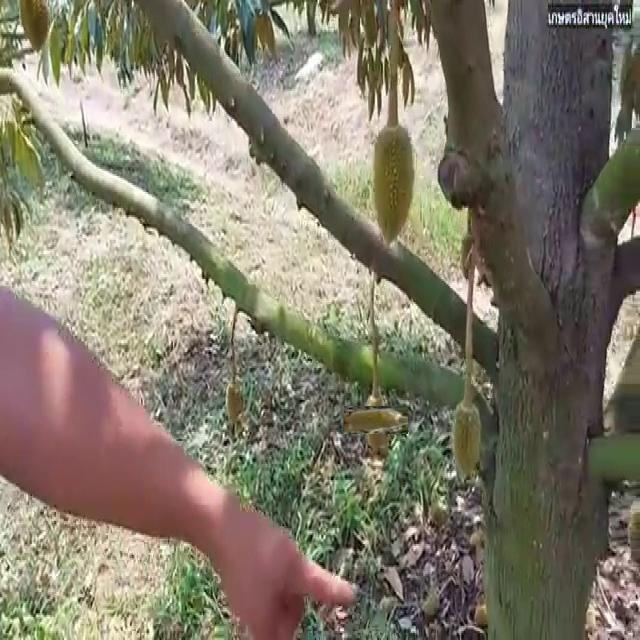durian: (371, 117, 417, 250), (448, 396, 484, 490), (353, 397, 399, 444), (224, 378, 246, 427)
